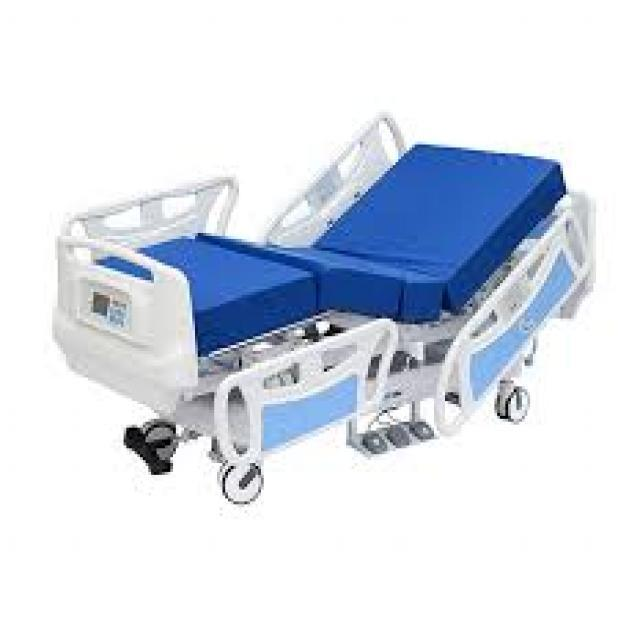patient_bed: (79, 173, 581, 458)
